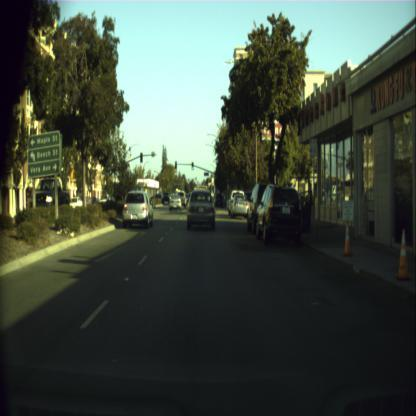Green: (191, 161, 194, 170)
Red: (174, 160, 176, 168)
